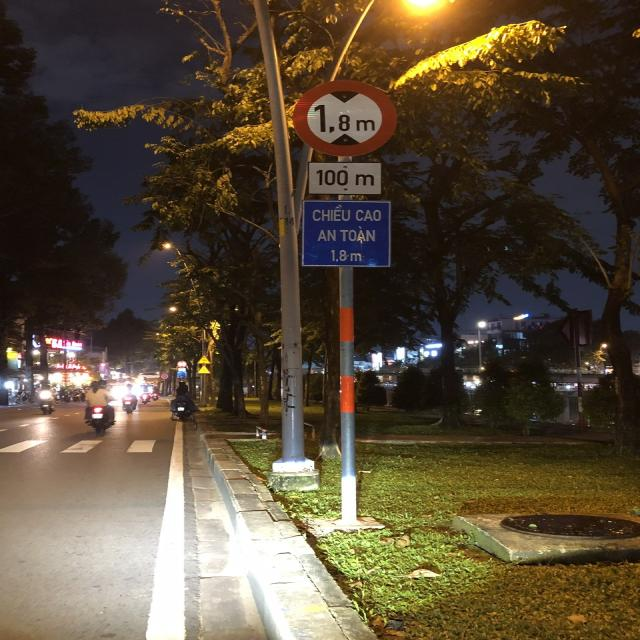Bien bao han che chieu cao: (288, 73, 404, 156)
